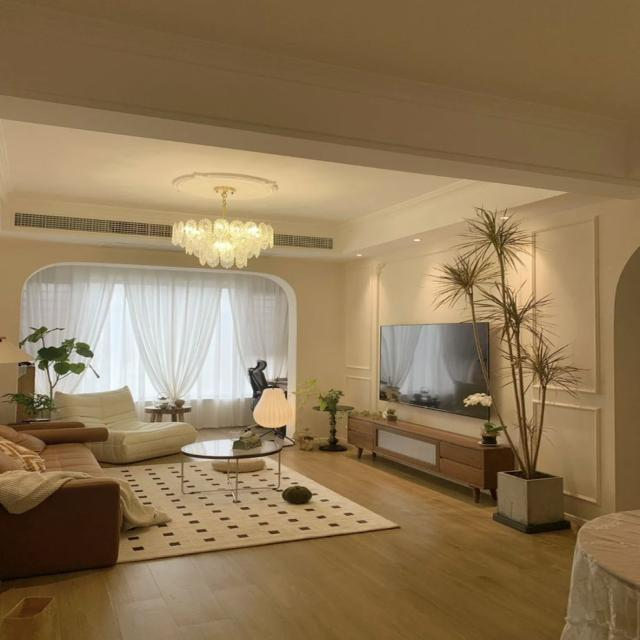obstacle: (1, 418, 121, 580), (346, 414, 515, 504), (48, 385, 198, 464), (179, 438, 284, 502)
